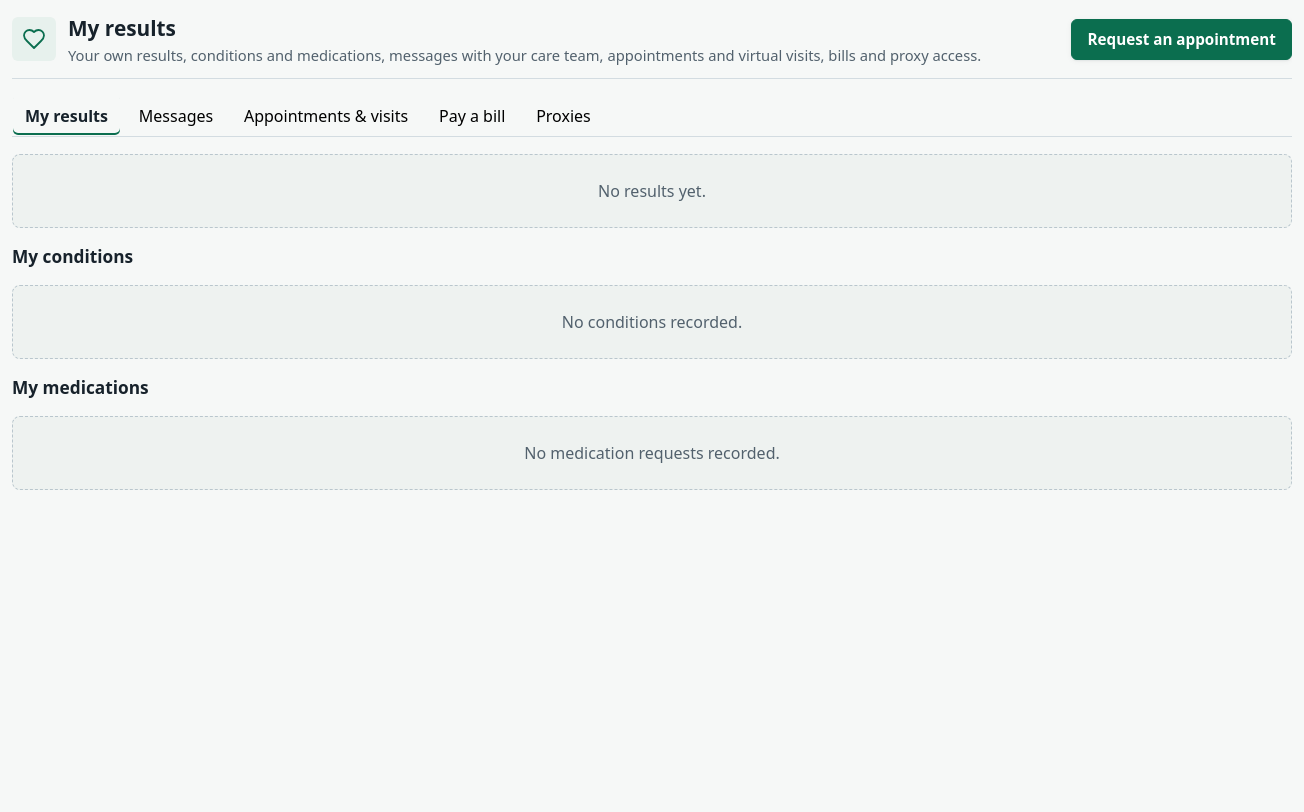
Test case: PortalPage (Phase 9 sections) › renders message threads with unread badges and opens a thread
Click the tab "Messages": [176, 116] box x1=126 y1=95 x2=226 y2=136
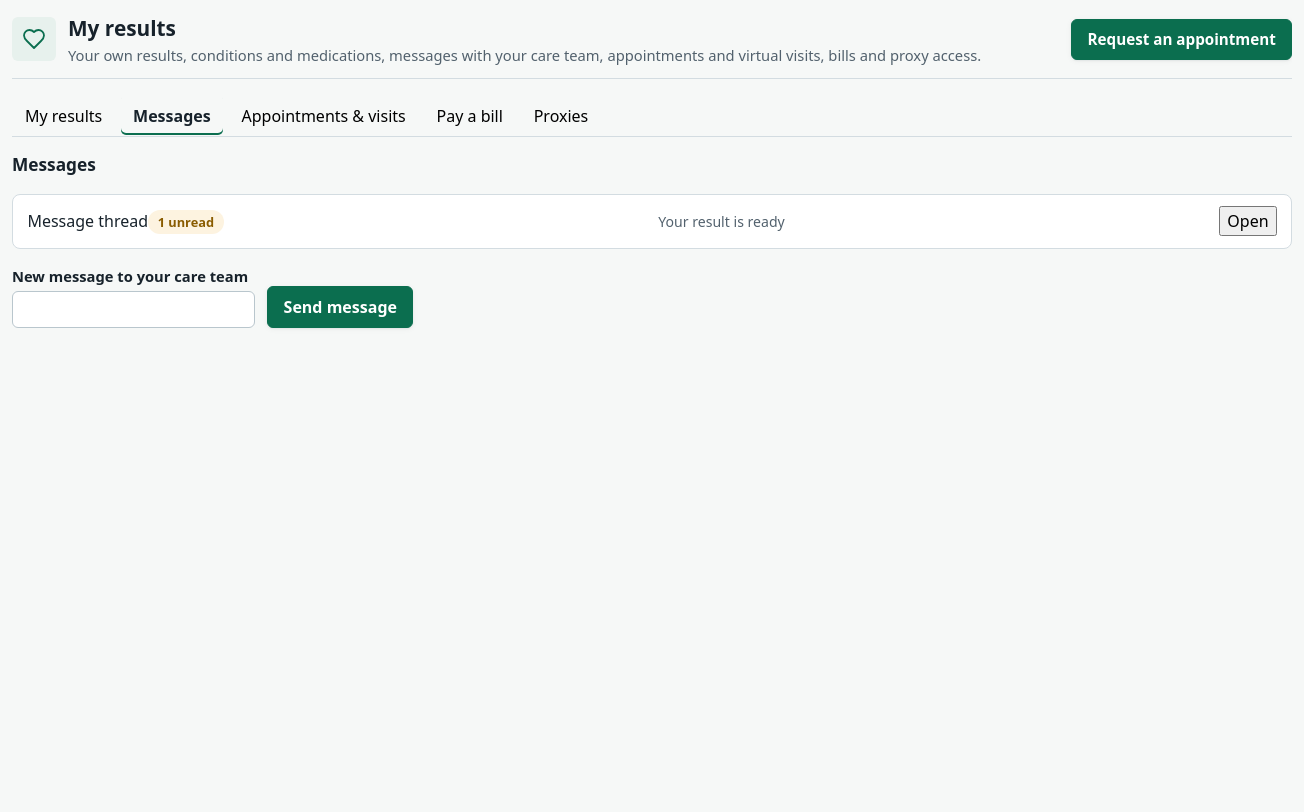
Now the text "Message thread" is shown, box x1=27 y1=210 x2=148 y2=232
Now the text "1 unread" is shown, box x1=148 y1=210 x2=224 y2=234
Now the text "Your result is ready" is shown, box x1=658 y1=211 x2=785 y2=232
Click the button "Open": [1248, 221] box x1=1219 y1=206 x2=1277 y2=236
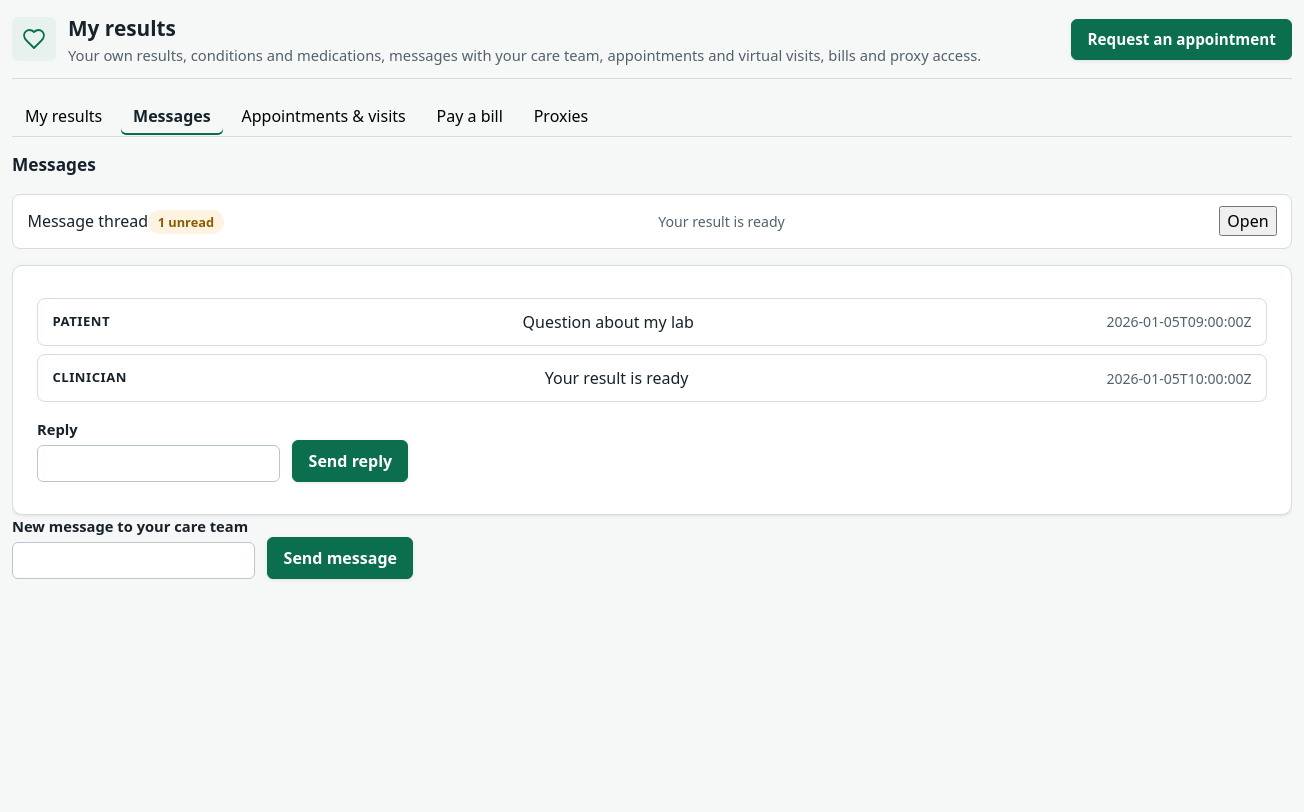
Now the text "Question about my lab" is shown, box x1=523 y1=310 x2=694 y2=334
